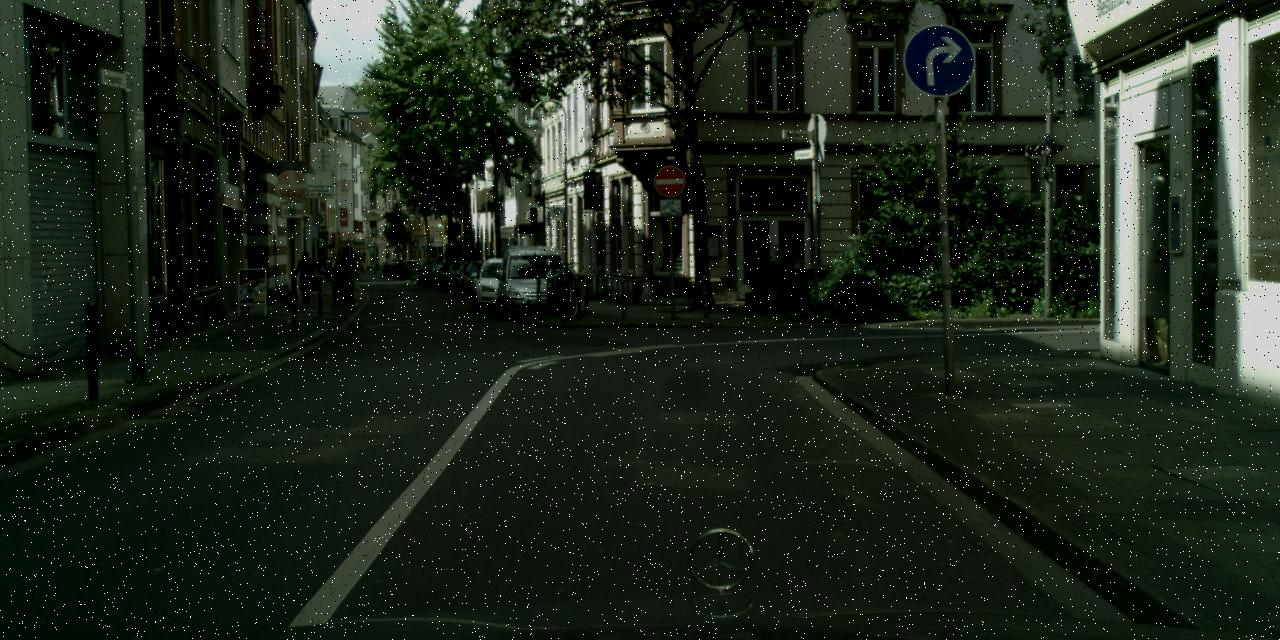ped: (336, 248, 358, 304), (294, 251, 316, 303), (318, 256, 338, 278)
